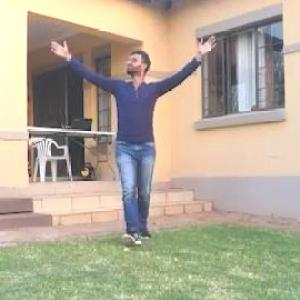takeoff: (54, 48, 210, 246)
